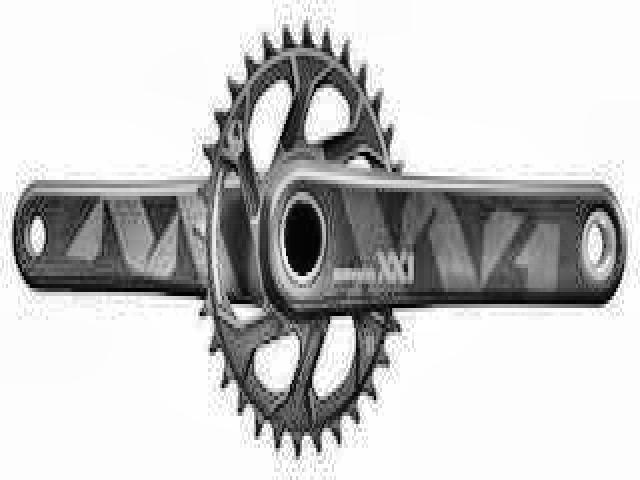cranks_set: (194, 18, 628, 460)
